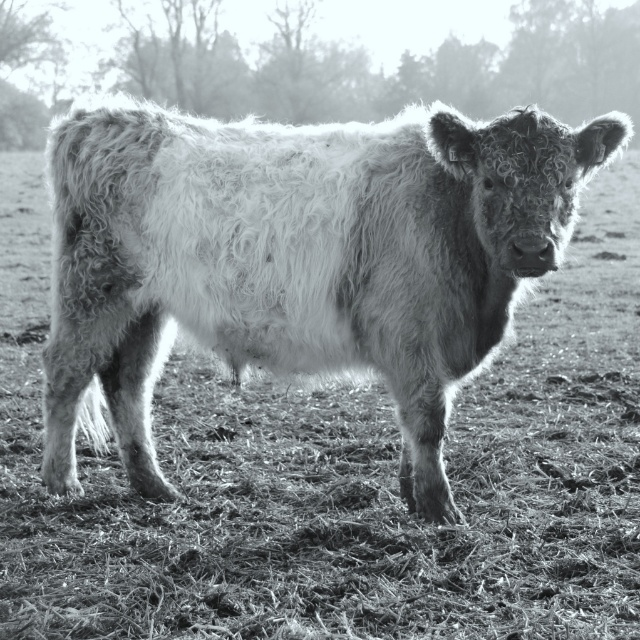Bull: (38, 89, 636, 525)
